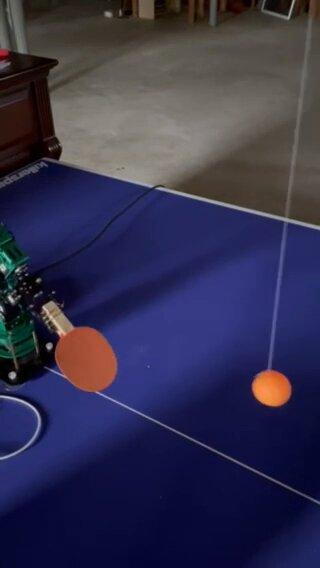oball: (252, 368, 290, 407)
